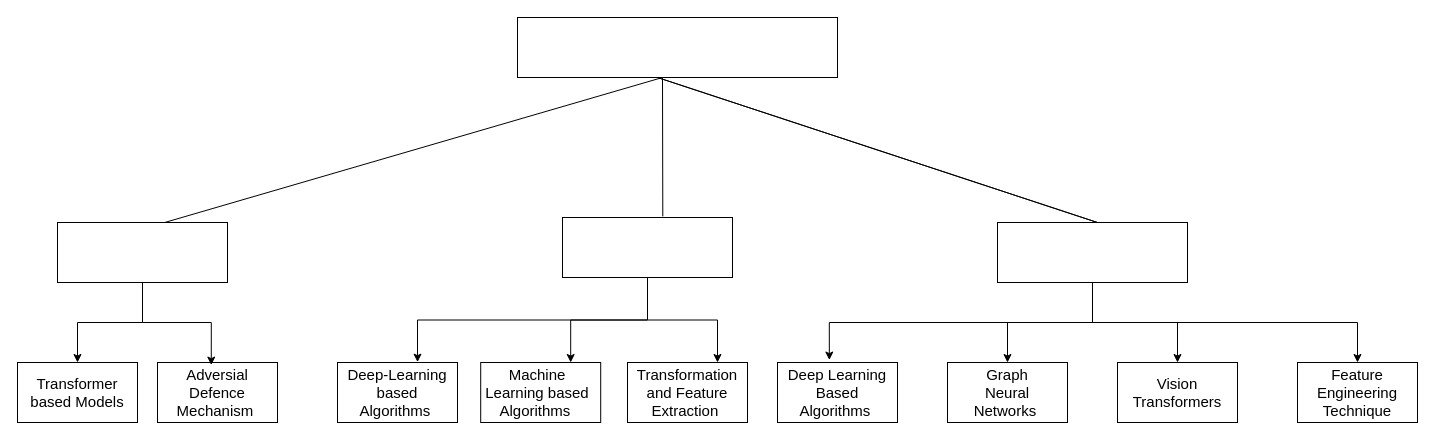
This 1435x440 diagram has some shape labels left out. Here are the shapes that lost their labels. From the top down, the centre of each, then its label:
At (x=677, y=47): "DeepFake Detection".
At (x=142, y=252): "Text Detection Algorithms".
At (x=647, y=247): "Audio Detection Algorithms".
At (x=1092, y=252): "Image/Video Detection Algorithms".
